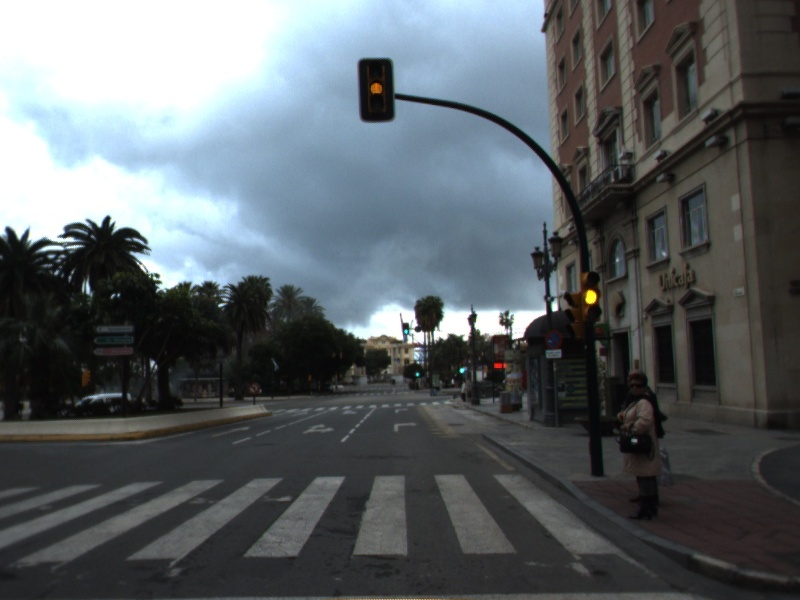RIGHT: (391, 419, 420, 434)
STRAIGHT: (209, 425, 251, 439)
STRAIGHT_RIGHT: (300, 421, 337, 436)
